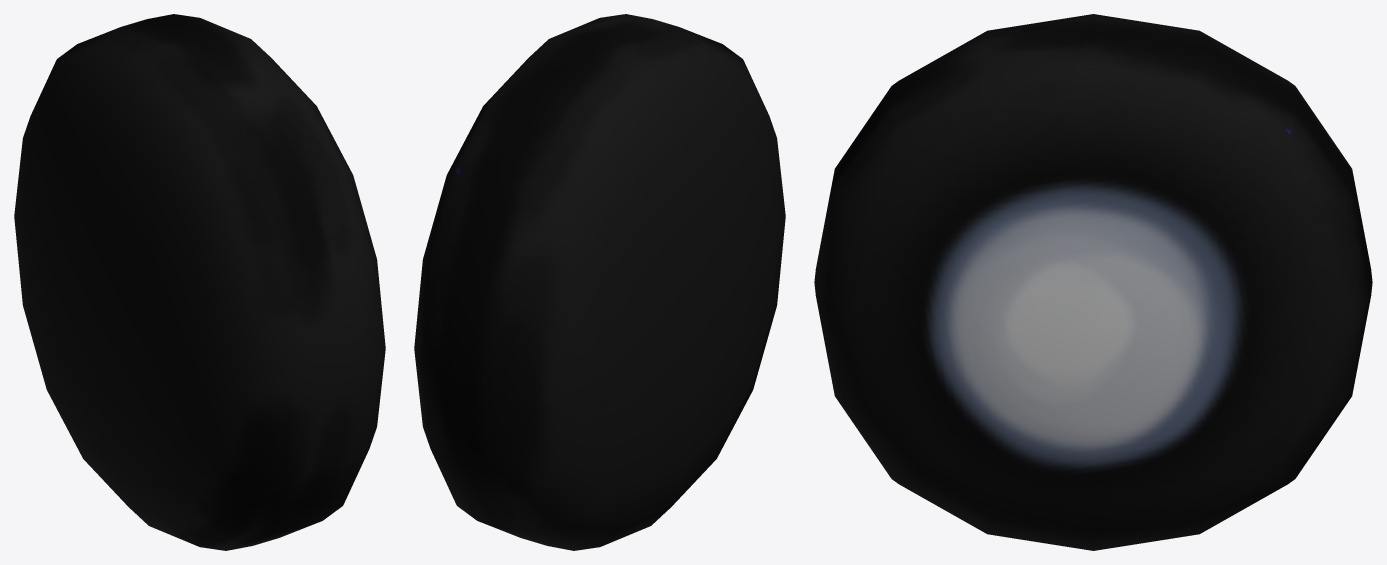
File: Mothman_backwheelA.fbx
The picture shows the model from 3 angles, left to right: view 1: azimuth 30°, elevation 25°; view 2: azimuth 150°, elevation 25°; view 3: azimuth 270°, elevation 25°; orthographic projection. The views are drawn at different scales.
Visible parts, largest first — view 1: Plane.021; view 2: Plane.021; view 3: Plane.021.
Boxes of the visible parts, x1,y1,x2,y2 form: Plane.021: (14, 14, 385, 550); Plane.021: (414, 14, 785, 550); Plane.021: (814, 14, 1372, 550).
Size of the model in its own units: 447 by 193 by 447.
Materials: 1 (1 with a texture image).
